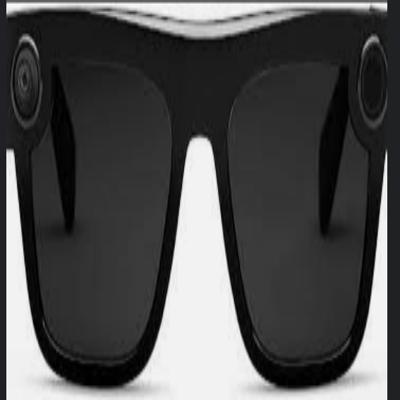glasses: (3, 6, 386, 388)
